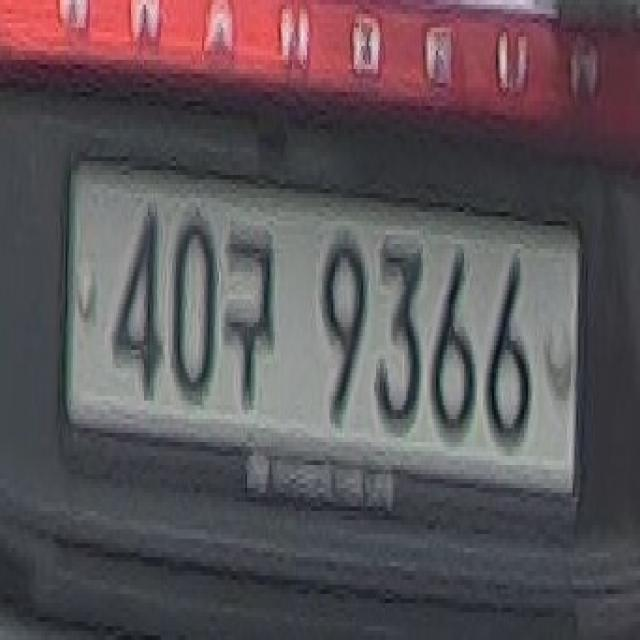0: (172, 212, 217, 400)
3: (372, 230, 421, 438)
4: (106, 203, 166, 405)
6: (483, 244, 535, 451), (430, 244, 478, 442)
9: (318, 221, 367, 437)
gu: (223, 212, 275, 410)
license_plate: (60, 143, 584, 534)
